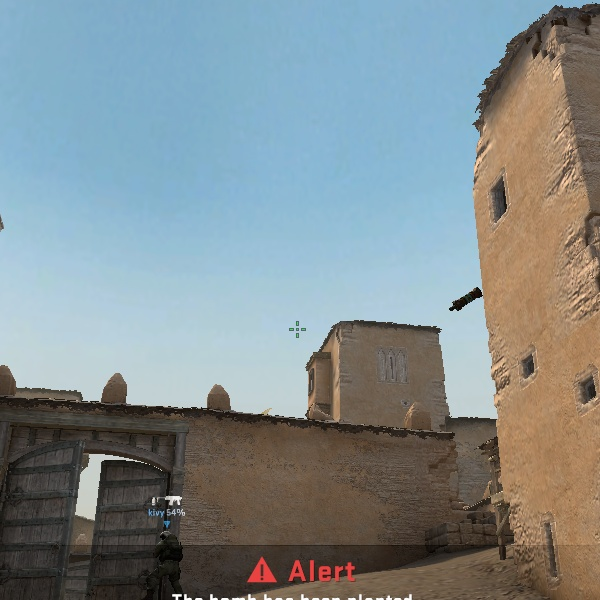ct_body: (153, 531, 183, 598)
ct_head: (160, 531, 172, 541)
